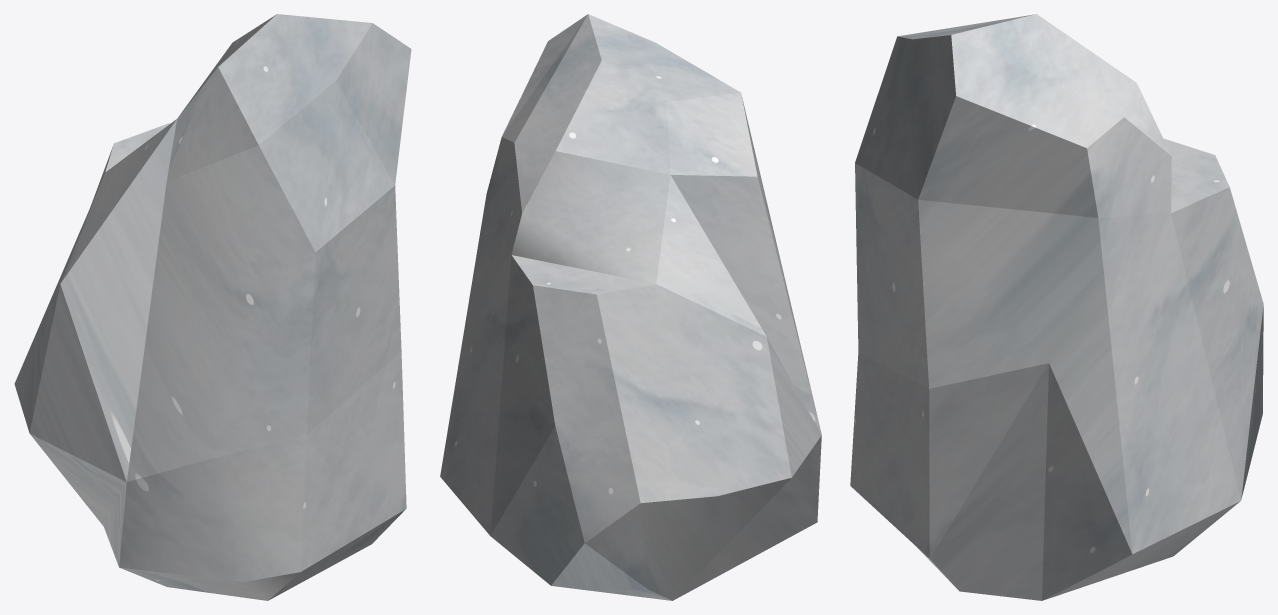
File: BG_Rock_1.fbx
3 renders of one model, left to right at view 1: azimuth 30°, elevation 25°; view 2: azimuth 150°, elevation 25°; view 3: azimuth 270°, elevation 25°, orthographic. The views are drawn at different scales.
Visible parts, largest first — view 1: Background_Rock_1; view 2: Background_Rock_1; view 3: Background_Rock_1.
Part boxes in pixels (bbox=[...]): Background_Rock_1: bbox=[14, 14, 411, 600]; Background_Rock_1: bbox=[440, 14, 821, 600]; Background_Rock_1: bbox=[850, 14, 1263, 600].
Size of the model in its own units: 7.43 by 10.47 by 7.07.
Materials: 1 (1 with a texture image).
